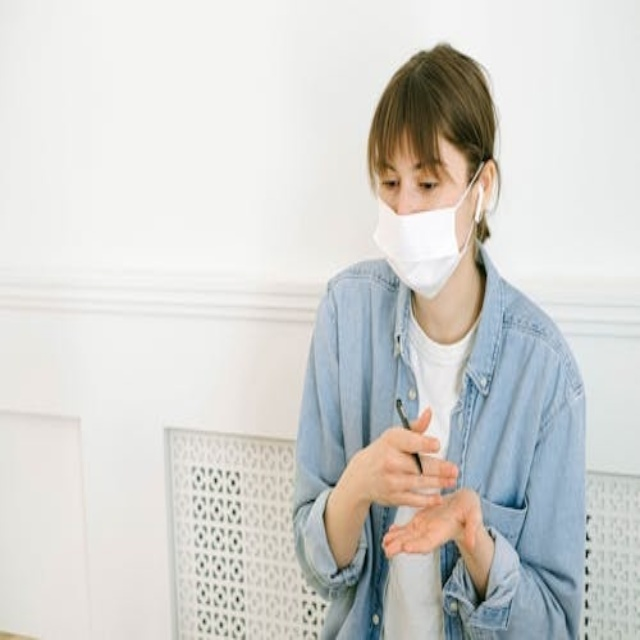Mascara: (373, 160, 486, 296)
Sin_gafas: (374, 158, 442, 204)
Sin_guantes: (353, 409, 461, 511), (383, 484, 486, 563)
